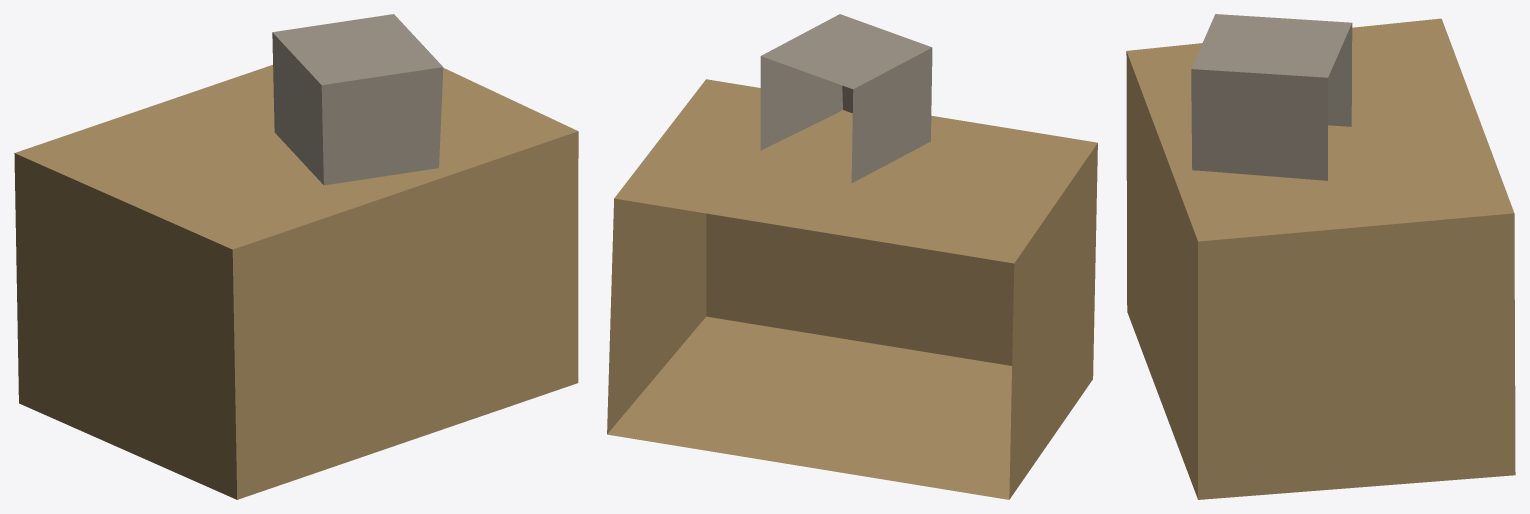
Rendered from MSH_QuestObject_cabinet_01.fbx.
3 views of the same model, side by side, from view 1: azimuth 30°, elevation 25°; view 2: azimuth 150°, elevation 25°; view 3: azimuth 270°, elevation 25° (orthographic). The views are drawn at different scales.
Parts seen in each view (by area): view 1: MSH_QuestObject_cabinet_01; view 2: MSH_QuestObject_cabinet_01; view 3: MSH_QuestObject_cabinet_01.
Boxes of the visible parts, bbox=[...] form: MSH_QuestObject_cabinet_01: bbox=[14, 14, 578, 499]; MSH_QuestObject_cabinet_01: bbox=[607, 14, 1097, 499]; MSH_QuestObject_cabinet_01: bbox=[1126, 14, 1515, 499].
Size of the model in its own units: 1.55 by 1.17 by 1.14.
